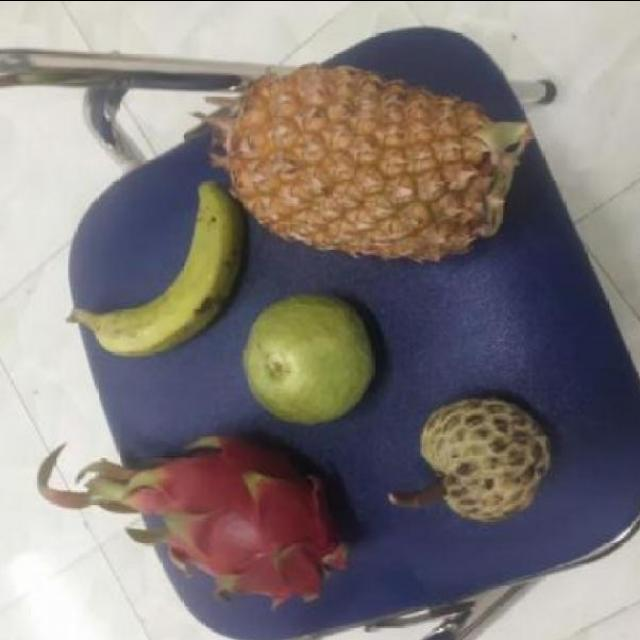banana: (74, 165, 244, 353)
dragon fruit: (152, 426, 346, 600)
guava: (246, 284, 376, 421)
pineapple: (223, 51, 517, 262)
sugar apple: (416, 387, 552, 521)
